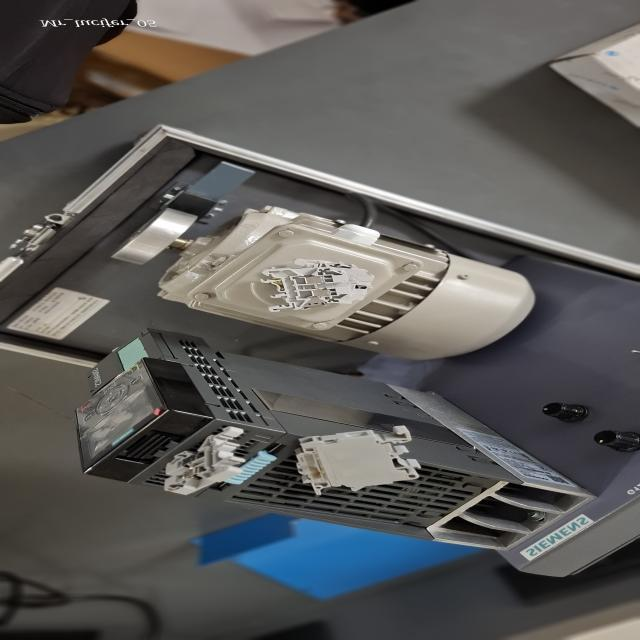Pass: (255, 257, 369, 313), (160, 426, 249, 496)
